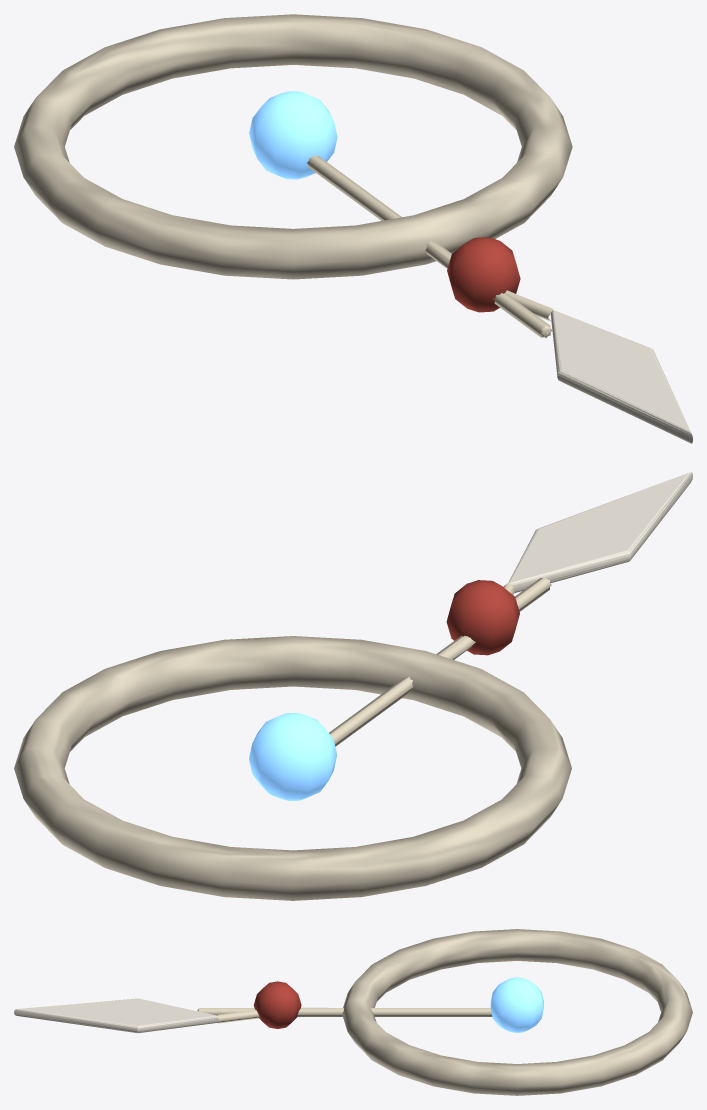
The model's file is marens_charm.glb.
3 views of the same model, one above another, from view 1: azimuth 30°, elevation 25°; view 2: azimuth 150°, elevation 25°; view 3: azimuth 270°, elevation 25° (orthographic). The views are drawn at different scales.
Parts seen in each view (by area): view 1: marens_charm; view 2: marens_charm; view 3: marens_charm.
Part boxes in pixels (bbox=[...]): marens_charm: bbox=[14, 14, 692, 443]; marens_charm: bbox=[14, 472, 692, 900]; marens_charm: bbox=[14, 929, 692, 1095].
Bounding box in the file's own units: 0.088 × 0.014 × 0.17.
5 materials, 1 textured.
